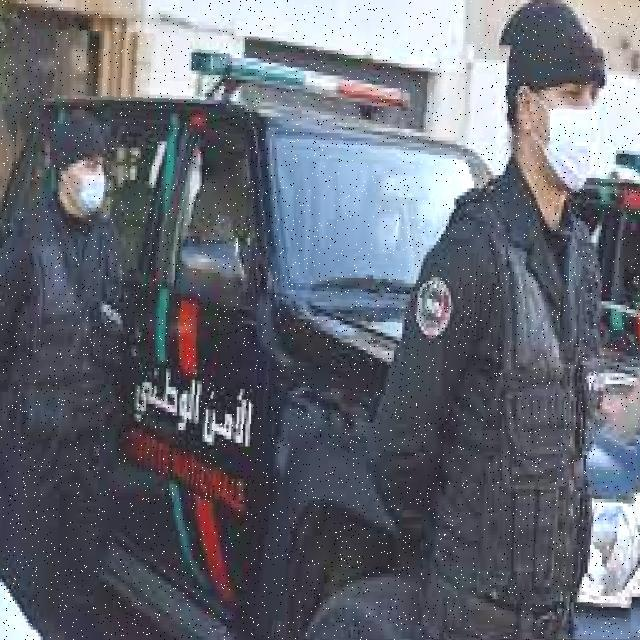police: (4, 33, 640, 640)
